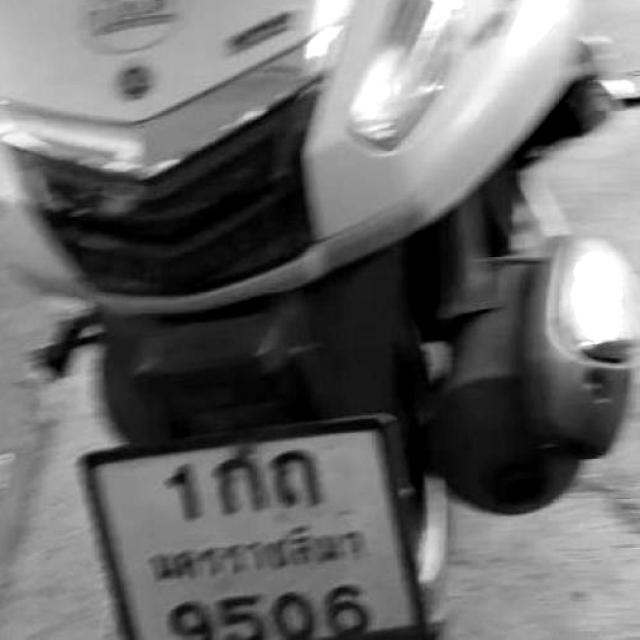letters: (271, 451, 328, 509), (215, 459, 266, 515), (162, 462, 207, 524), (153, 597, 215, 640), (327, 585, 369, 637), (273, 592, 316, 640), (219, 595, 263, 640)
license-plate: (87, 436, 427, 640)
province: (142, 542, 377, 578)
